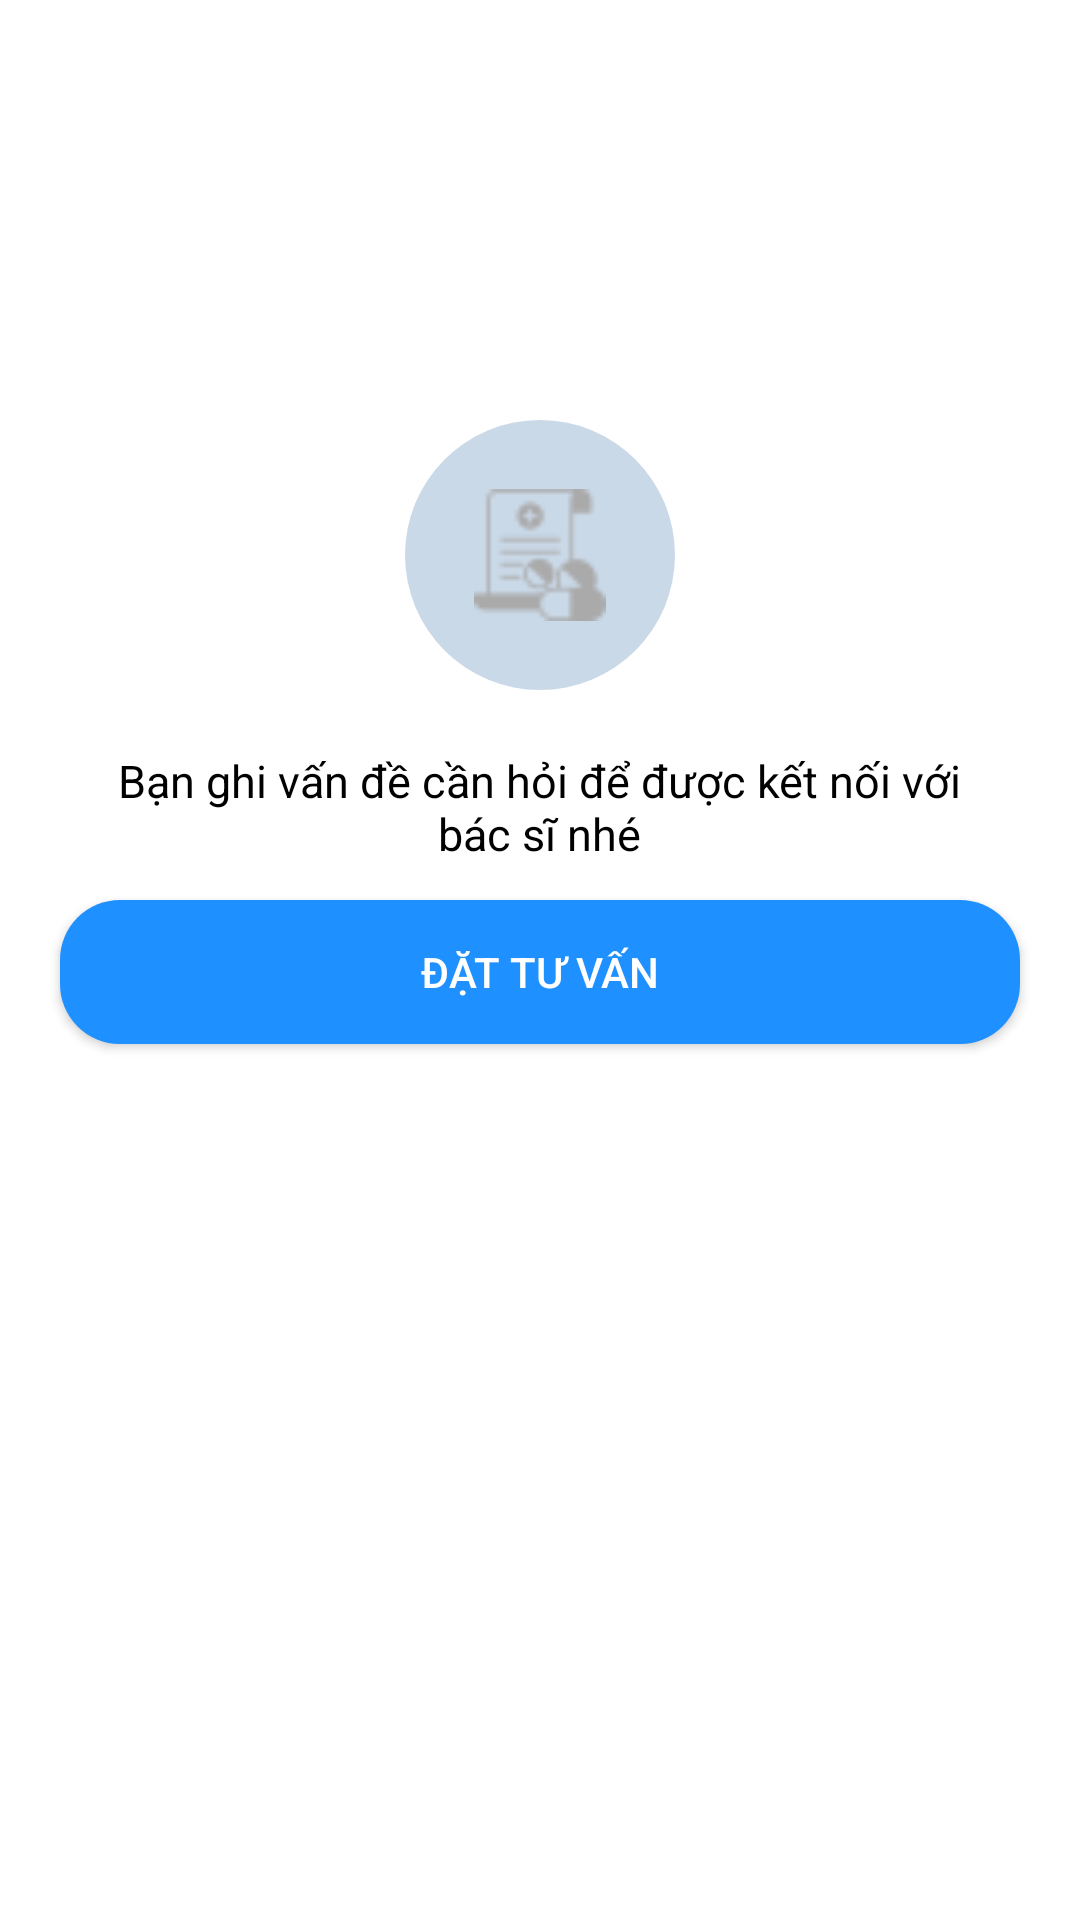

Where icons sit on this 1080*1920 app screen, as Rect(x1, y1, x2, y2):
receipt: Rect(405, 420, 675, 690)
